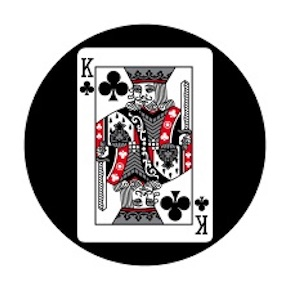KingOfClubs: (73, 44, 220, 248)
